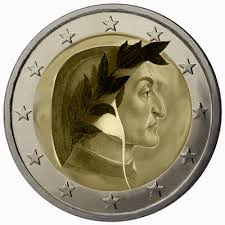eur002: (4, 3, 223, 222)
